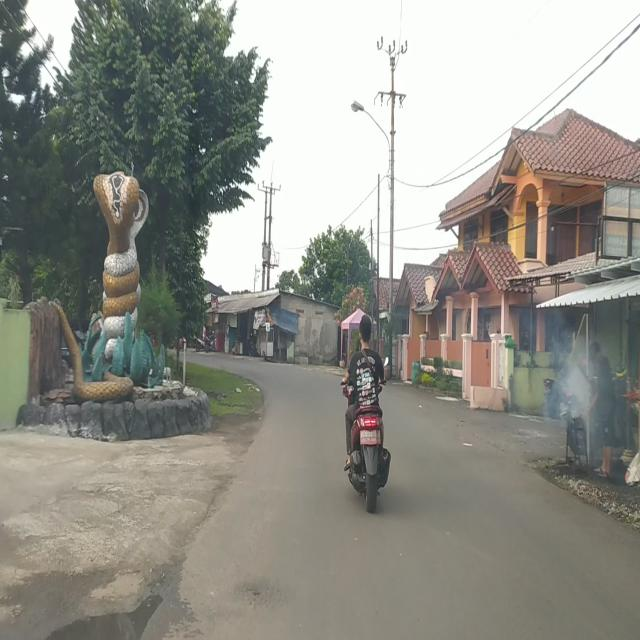Drain Hole: (233, 575, 283, 613)
